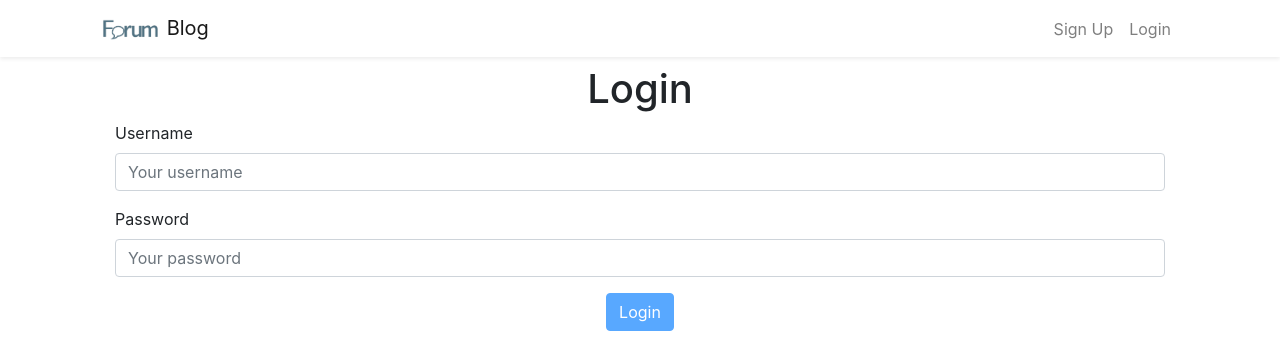
App › shows the HomePage when clicking the logo
Click the picture named "blog".
click(131, 30)  # box 101,15 -> 161,44
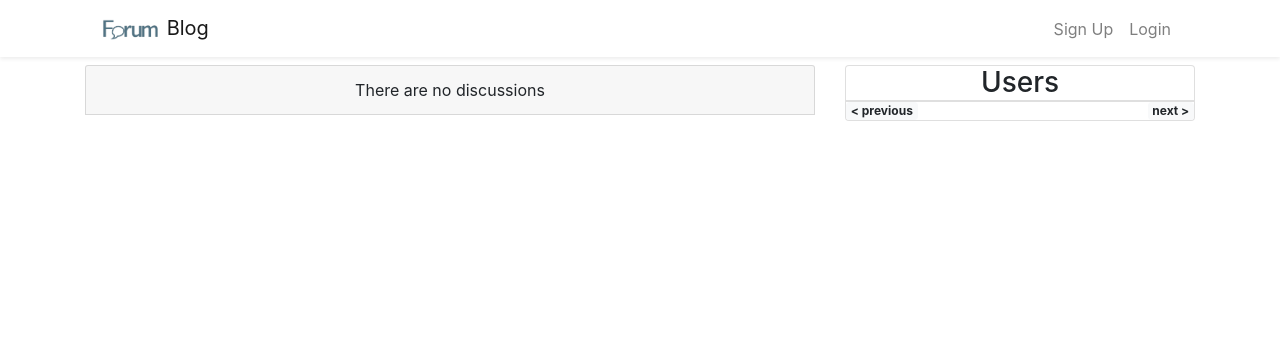
Result: the element with test id "homepage" is shown at 85,65 -> 1195,121
